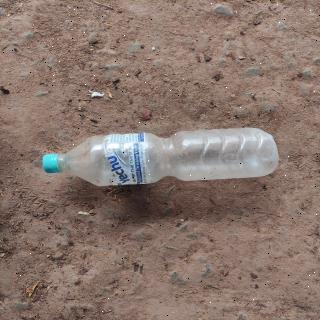Plastic-bottle: (39, 126, 283, 192)
